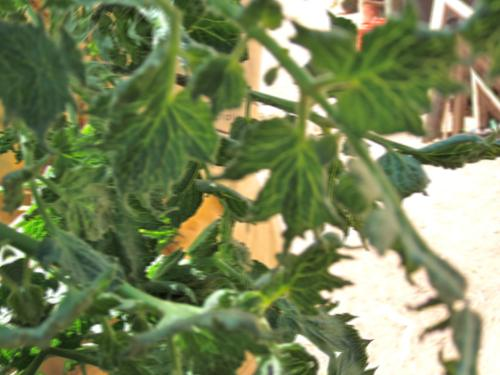Tomato leaf mosaic virus: (276, 0, 478, 164), (88, 71, 234, 209), (225, 100, 358, 241), (259, 232, 366, 324), (140, 155, 230, 245), (406, 115, 500, 197), (166, 302, 259, 375)
